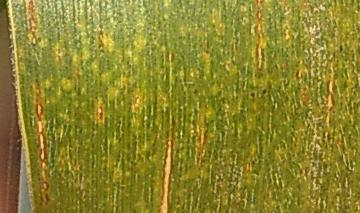tarspot: (246, 87, 258, 102), (336, 41, 345, 55), (260, 85, 268, 99)
